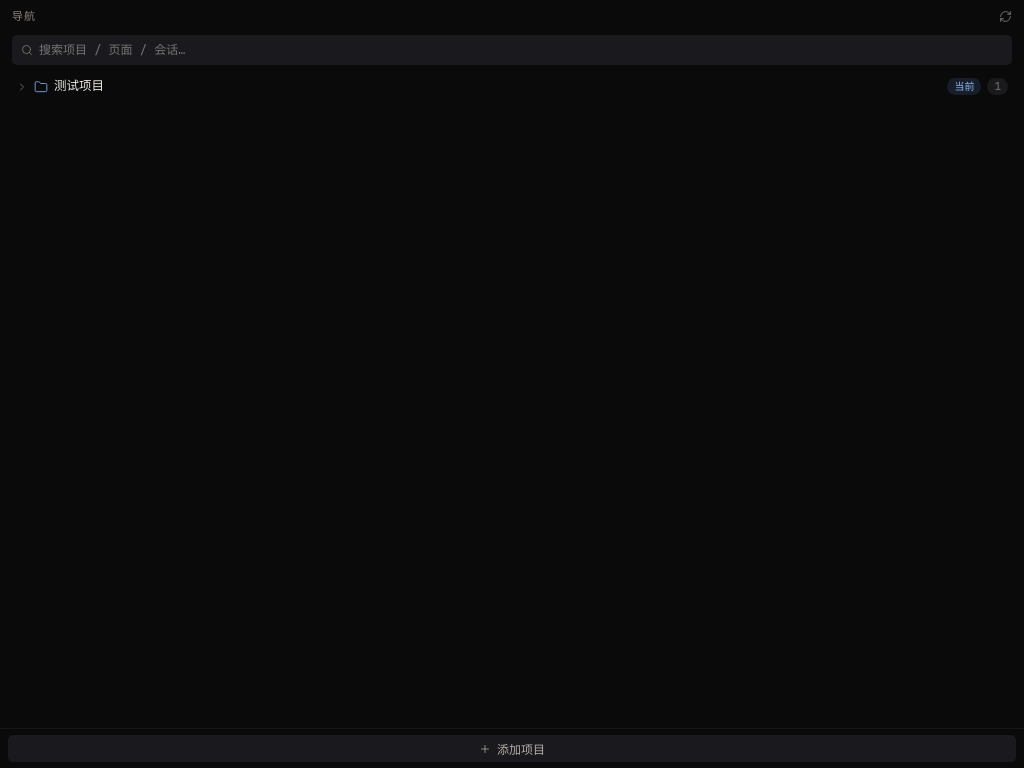
Test: 右键菜单 › 页面行右键菜单：含「重命名操作页面」「删除操作页面」，无「打开 Hooks 配置」
The image size is (1024, 768).
Click the element with test id "nav-row-project" at coordinates (79, 86), box [8, 72, 1016, 100]
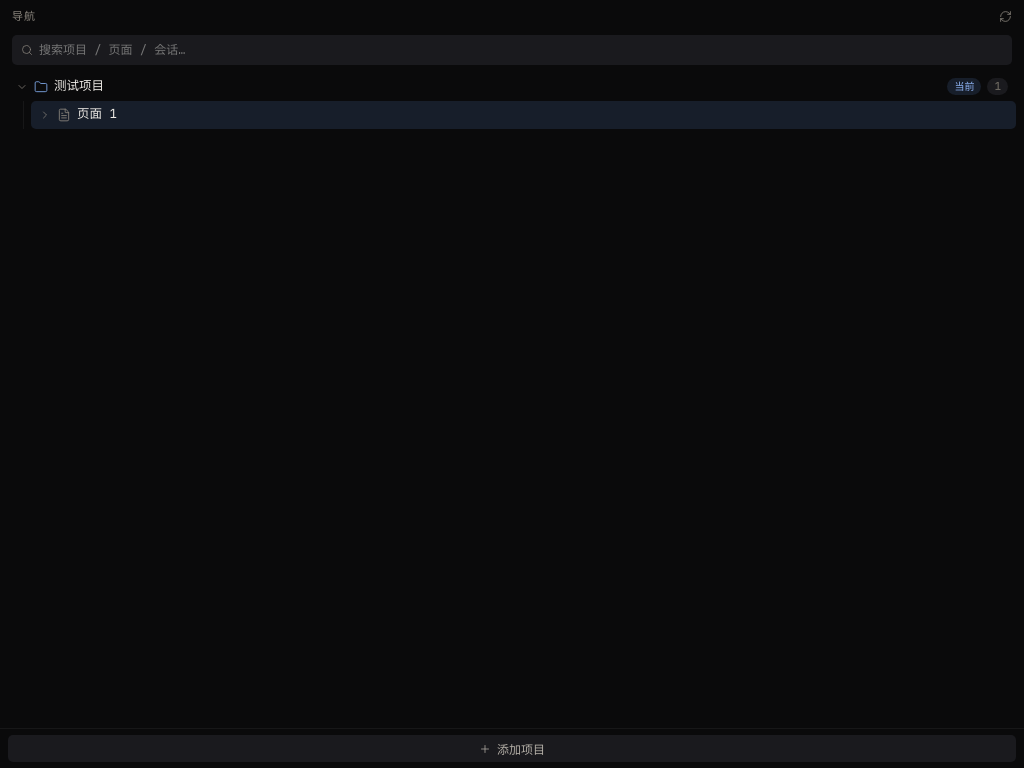
Right-click the element with test id "nav-row-page" at coordinates (524, 114), box [31, 100, 1016, 128]
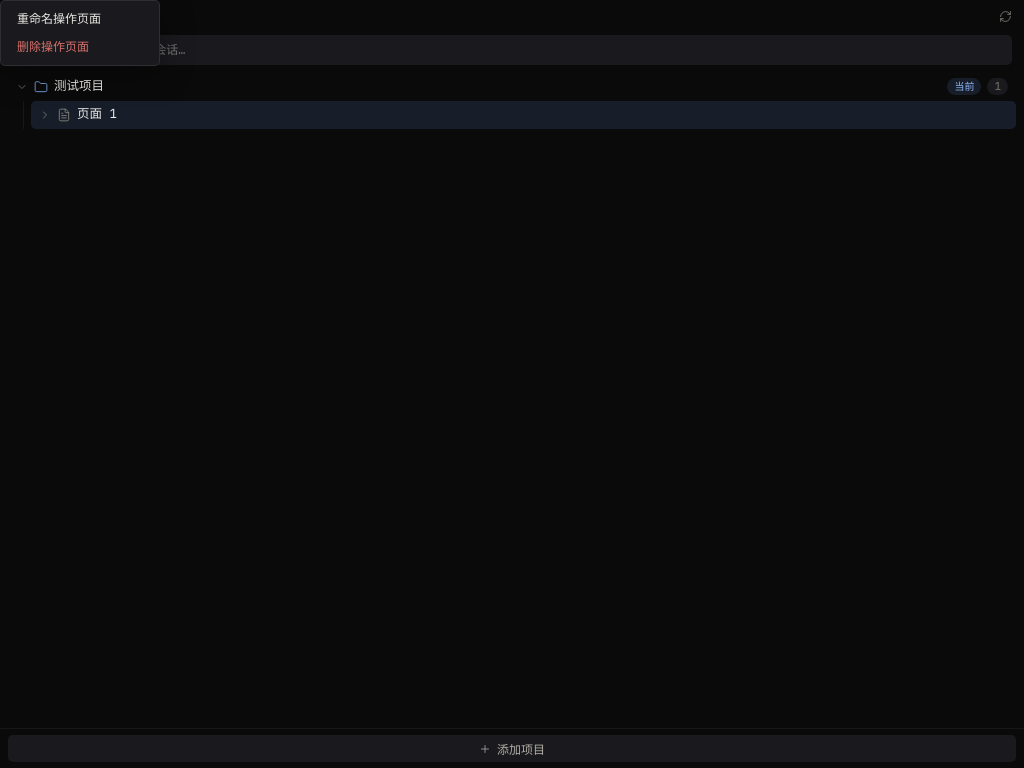
Now the text "重命名操作页面" is shown, box [17, 11, 101, 27]
Now the text "删除操作页面" is shown, box [17, 39, 89, 55]
